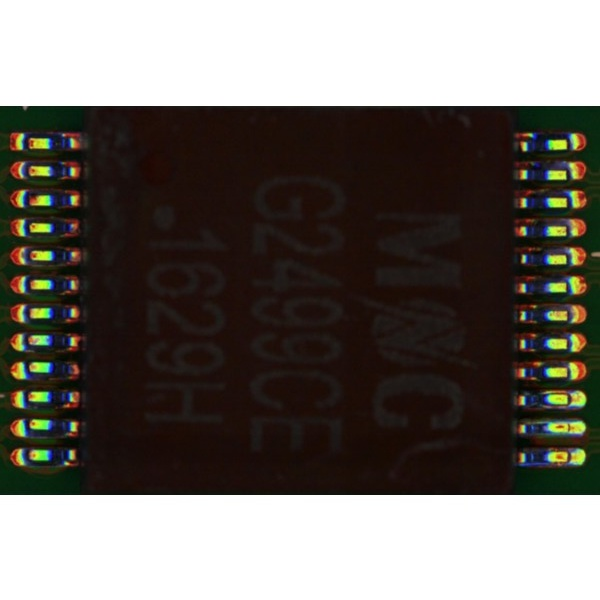Bad_podu: (561, 451, 576, 461), (565, 393, 575, 404), (560, 423, 575, 430)
Bad_qiaojiao: (540, 403, 568, 409), (540, 389, 567, 393)
